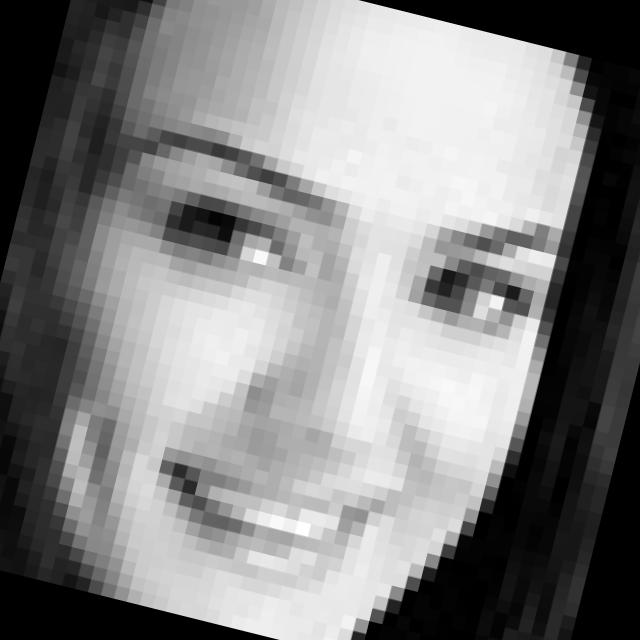happy: (22, 101, 569, 640)
